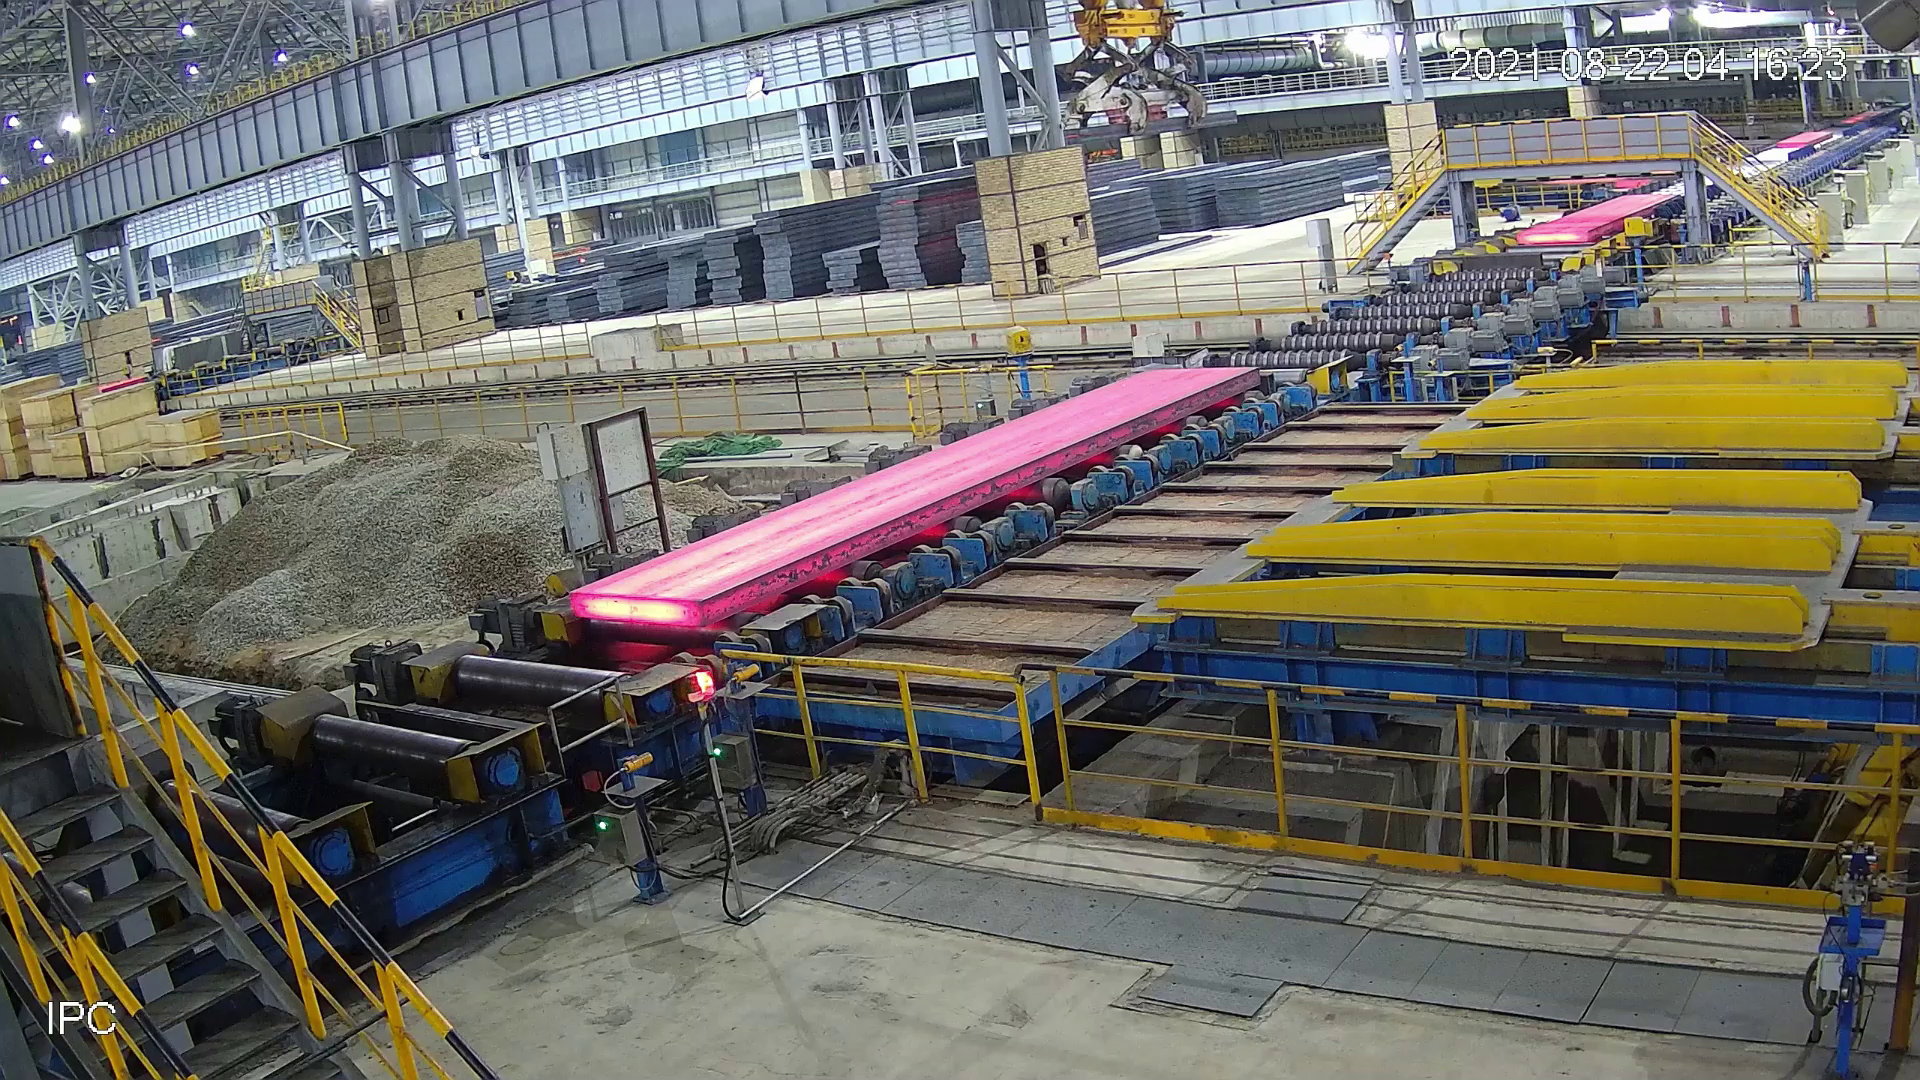slab: (559, 365, 1269, 641), (1515, 196, 1675, 247)
